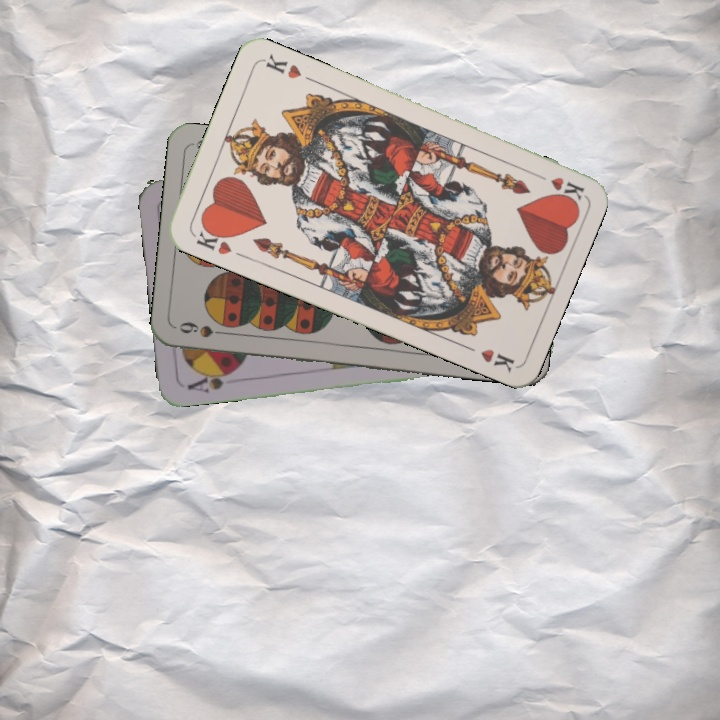HK: (528, 168, 587, 203), (189, 221, 235, 258)
S9: (175, 318, 234, 341)
SA: (183, 365, 240, 396)
